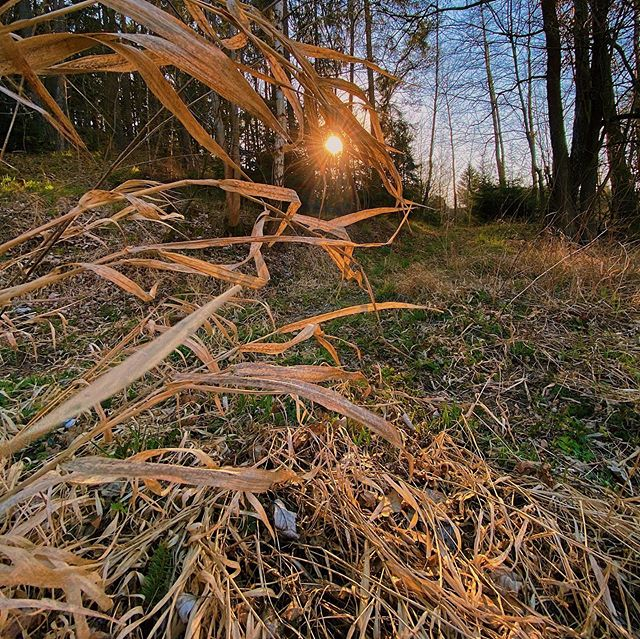vegetation: (1, 1, 640, 639)
